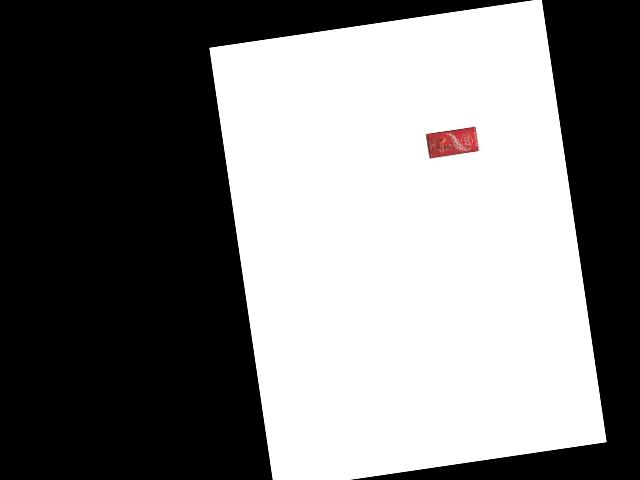chocolate: (421, 125, 480, 160)
